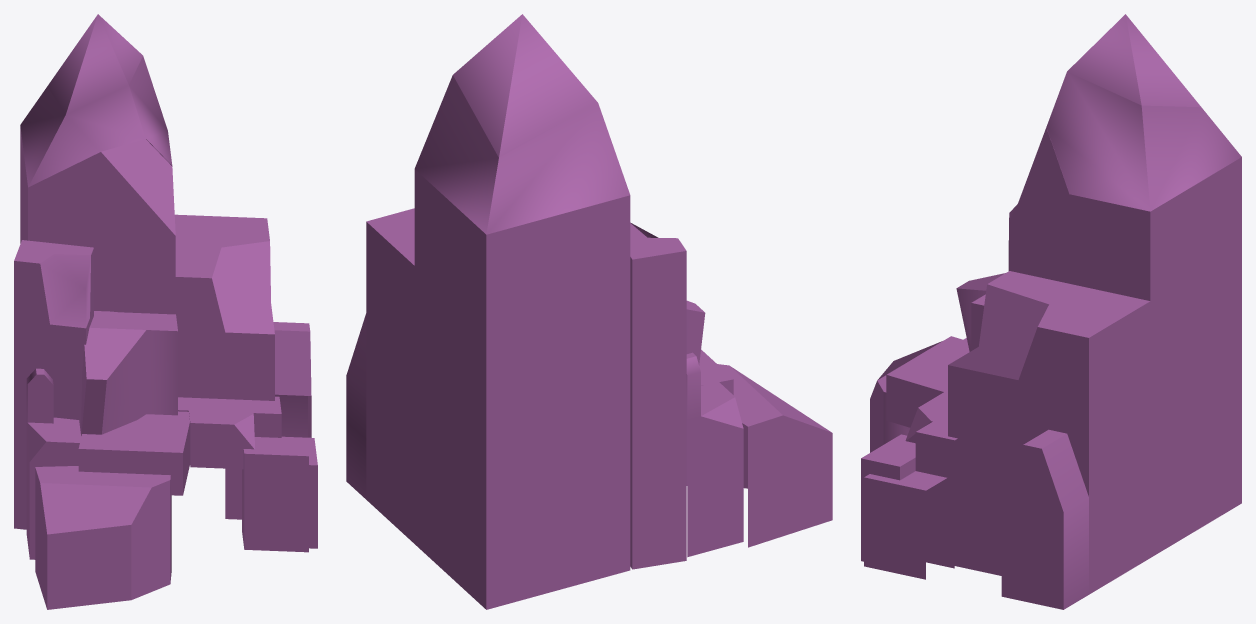
Rendered from iri2.0.fbx.
The picture shows the model from 3 angles, left to right: view 1: azimuth 30°, elevation 25°; view 2: azimuth 150°, elevation 25°; view 3: azimuth 270°, elevation 25°; orthographic projection. The views are drawn at different scales.
Parts seen in each view (by area): view 1: polySurface128; view 2: polySurface128; view 3: polySurface128.
Part boxes in pixels (x1,y1,x2,y2): polySurface128: (14,14,317,609); polySurface128: (346,14,832,609); polySurface128: (861,14,1241,609).
Bounding box in the file's own units: 350 × 470 × 318.
